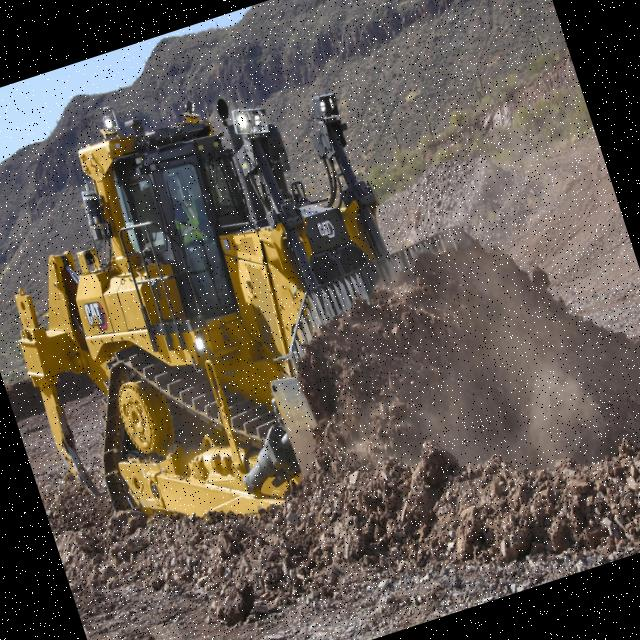Bulldozer: (0, 0, 621, 604)
